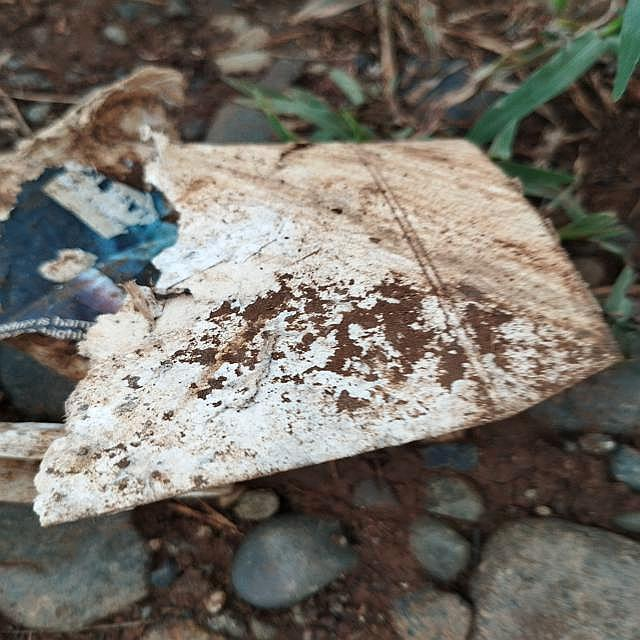Biodegradable: (1, 134, 640, 536)
